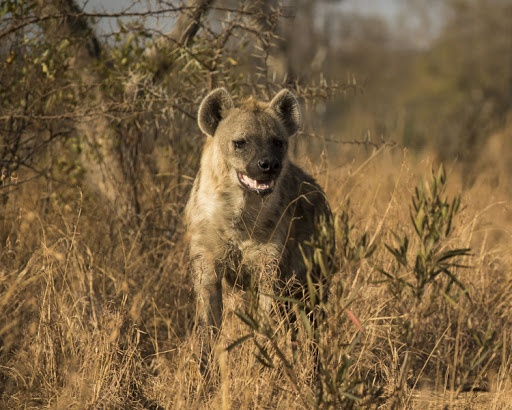hyna: (179, 83, 339, 402)
